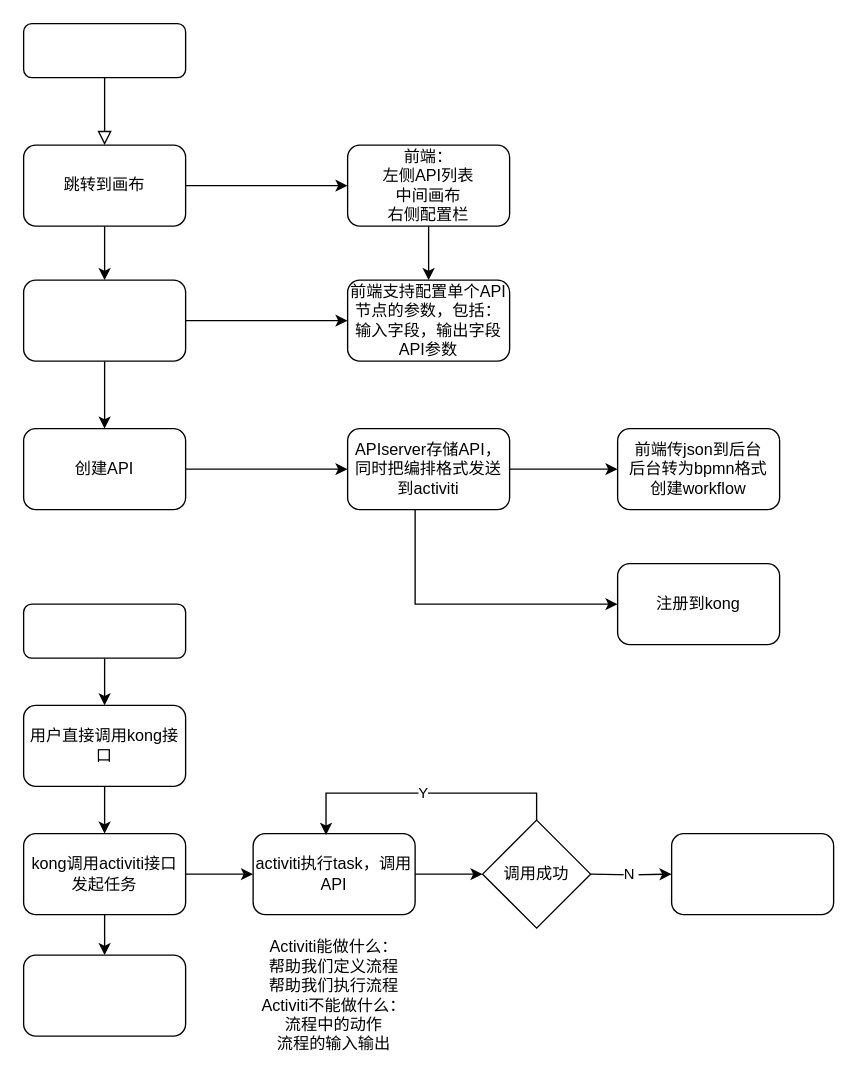
Image size: 857x1087. Some labels were removed from this diagram. The shapes that lost their labels are listed below. From the top down, each one's box as (x1, y1, x2, y2) in pixels, then its label:
(22, 22, 186, 78): 创建API编排
(22, 279, 186, 361): 拖动已有API到画布
(22, 603, 186, 658): 调用编排API
(670, 832, 834, 915): 单个API调用重试三次，如果失败，返回失败
(22, 954, 186, 1036): activiti任务接口返回执行结果
